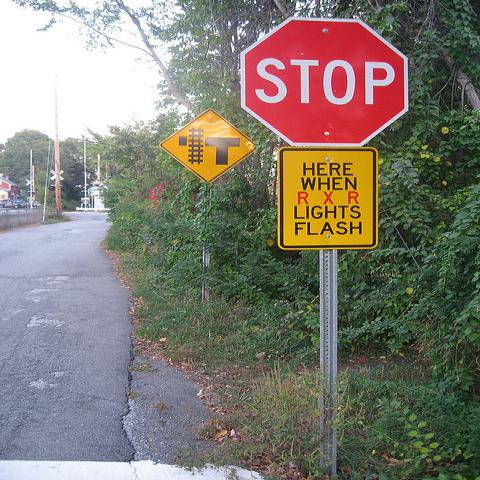car: (11, 200, 27, 207), (3, 201, 12, 208)
